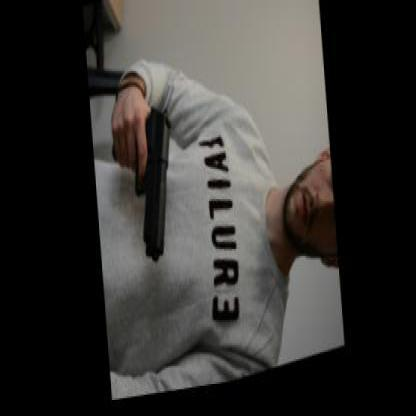pistol: (108, 103, 179, 277)
